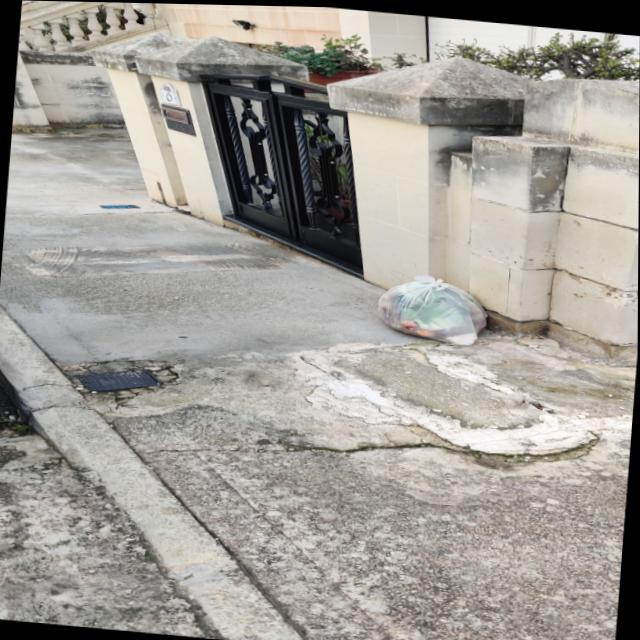Organic Waste -White Bags-: (374, 275, 494, 346)
